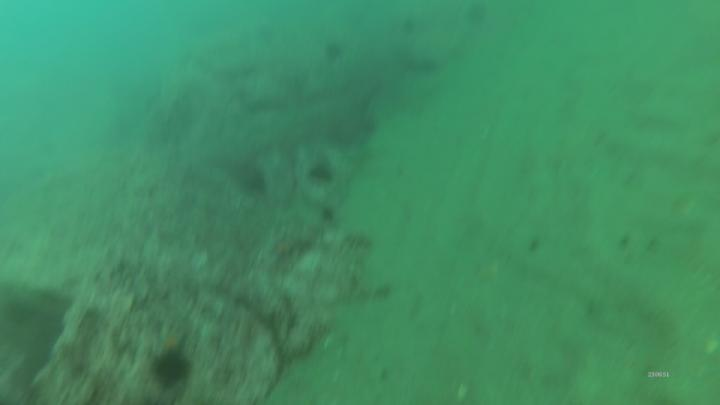echinus: (149, 346, 194, 390)
starfish: (158, 328, 189, 356)
